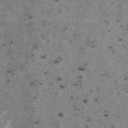oxide scale of temperature system: (2, 19, 128, 128), (60, 26, 68, 34), (26, 14, 32, 21), (35, 120, 40, 125), (54, 0, 60, 2)
